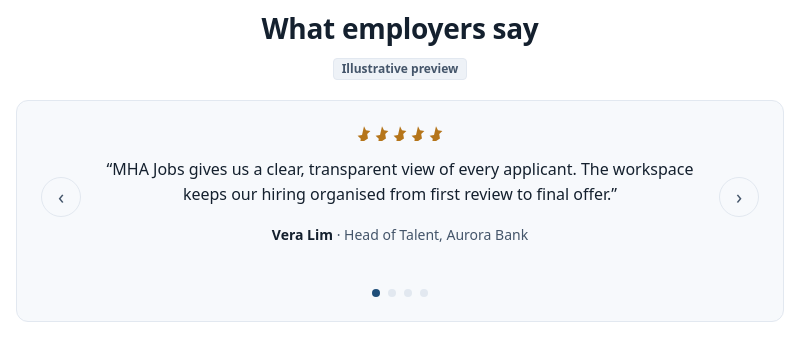
TestimonialsCarousel › advances to the next testimonial on Next
Check: the text "Daniel Tan" is not shown
Click the button named "Next testimonial" at {"x": 739, "y": 197}, box left=719, top=177, right=759, bottom=217
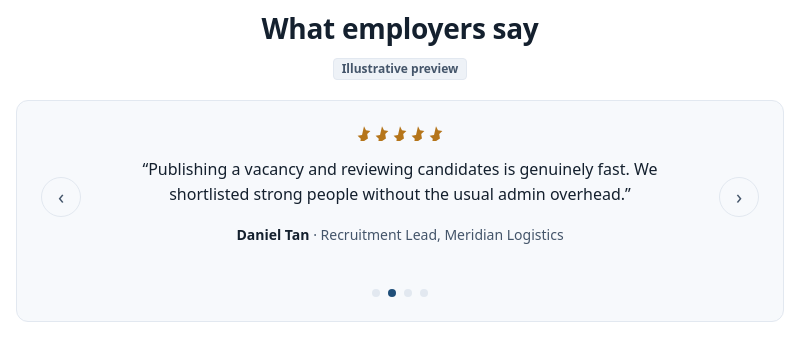
Check: the text "Daniel Tan" is shown, box left=236, top=225, right=310, bottom=244
